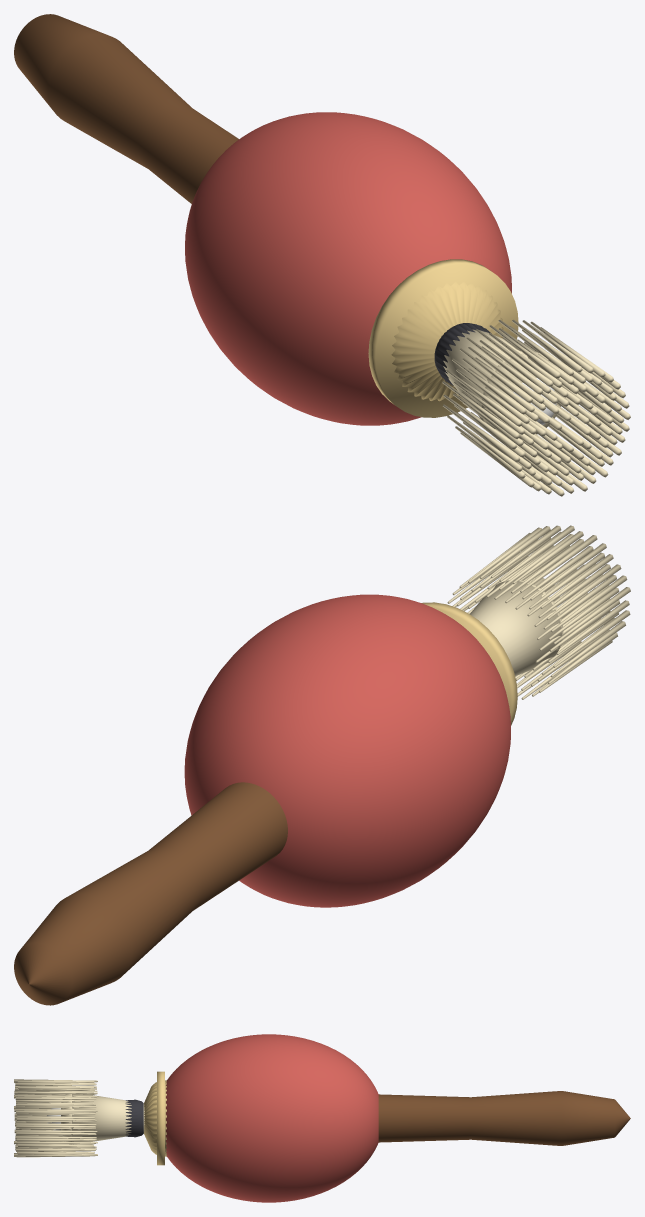
File: tools.glb
3 renders of one model, top to bottom at view 1: azimuth 30°, elevation 25°; view 2: azimuth 150°, elevation 25°; view 3: azimuth 270°, elevation 25°, orthographic. The views are drawn at different scales.
Parts seen in each view (by area): view 1: blow, brush, brush_bristle; view 2: blow, brush, brush_bristle; view 3: blow, brush, brush_bristle.
Part boxes in pixels (x1,y1,x2,y2): blow: (185, 112, 511, 425); brush: (14, 14, 518, 417); brush_bristle: (436, 319, 630, 496); blow: (184, 594, 510, 907); brush: (14, 602, 517, 1005); brush_bristle: (447, 525, 630, 699); blow: (125, 1034, 378, 1202); brush: (144, 1071, 630, 1165); brush_bristle: (14, 1079, 144, 1157).
Bounding box in the file's own units: 0.3166 × 0.3166 × 1.16.
